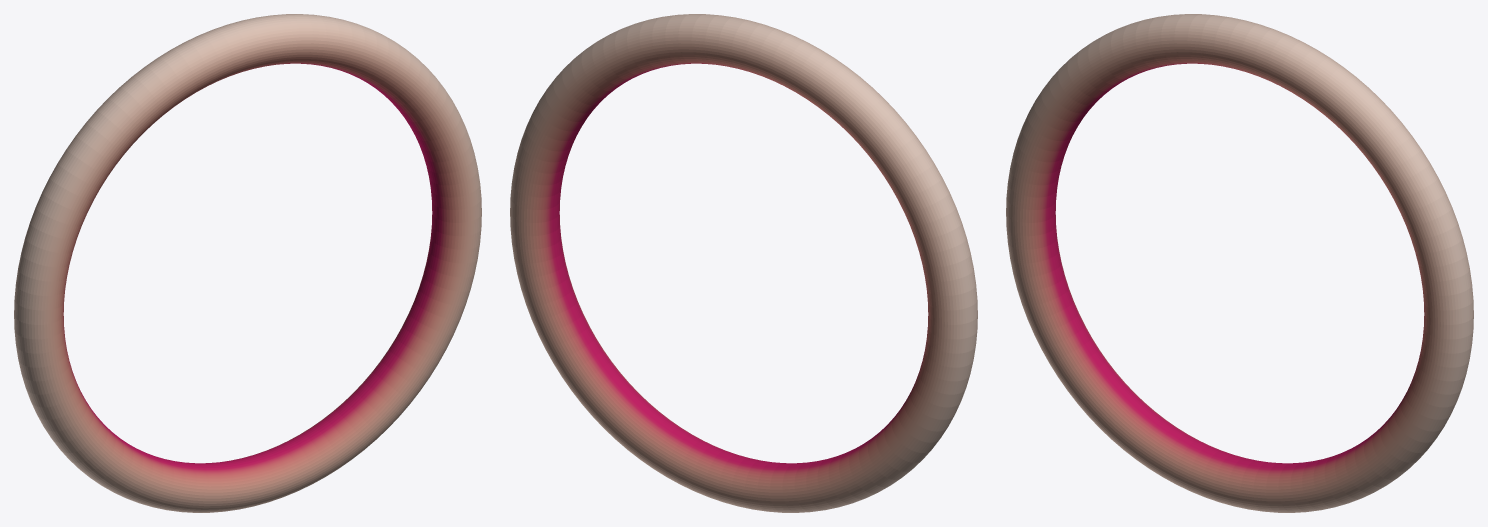
The picture shows the model from 3 angles, left to right: view 1: azimuth 30°, elevation 25°; view 2: azimuth 150°, elevation 25°; view 3: azimuth 330°, elevation 25°; orthographic projection.
Parts seen in each view (by area): view 1: world; view 2: world; view 3: world.
Part boxes in pixels (x1,y1,x2,y2): world: [14, 14, 481, 512]; world: [510, 14, 977, 512]; world: [1006, 14, 1473, 512].
Size of the model in its own units: 24.27 by 24.27 by 2.26.
